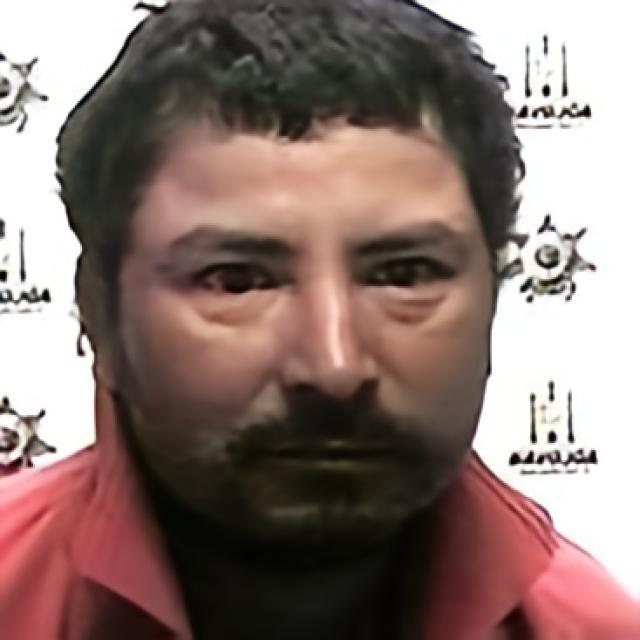fear: (118, 116, 496, 542)
